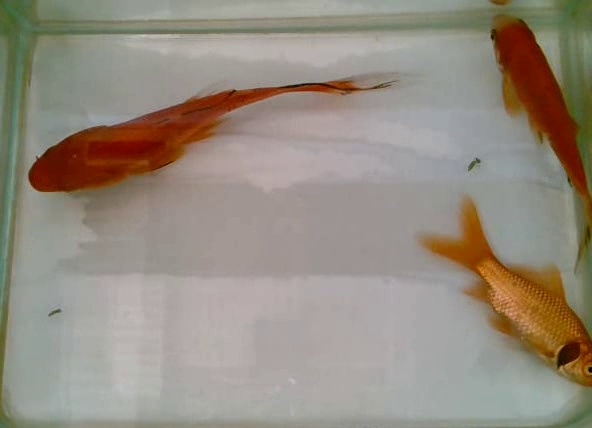alive_fish: (24, 61, 411, 196), (480, 9, 592, 280)
dead_fish: (409, 193, 592, 392)
